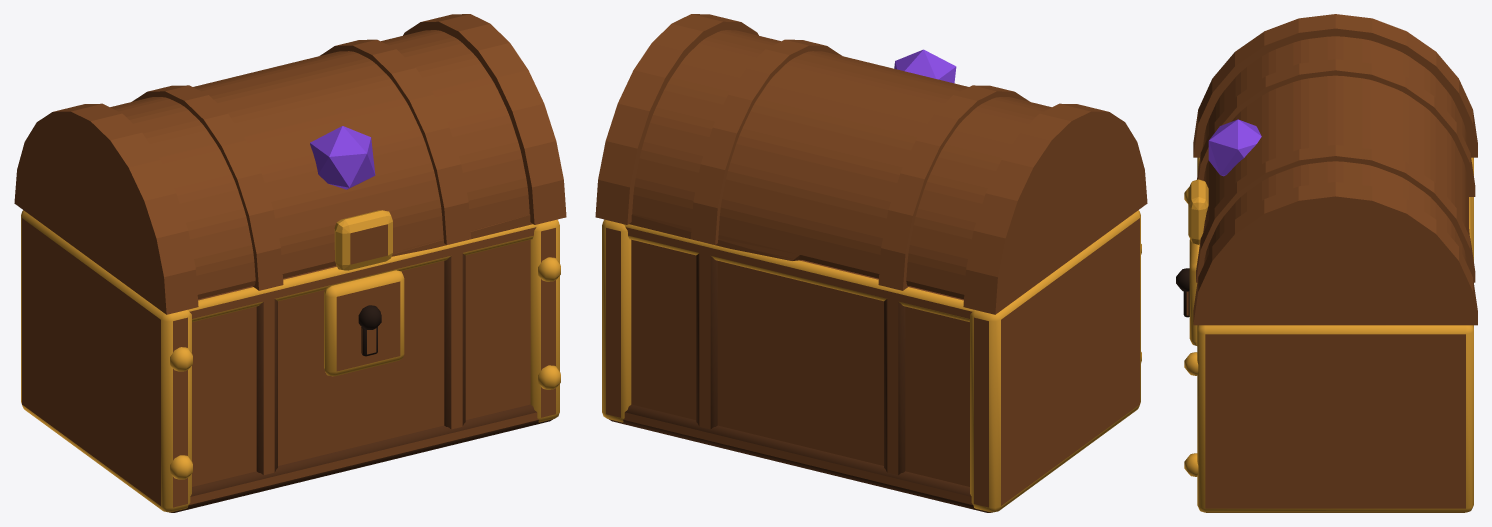
The model's file is Chest.fbx.
3 views of the same model, side by side, from view 1: azimuth 30°, elevation 25°; view 2: azimuth 150°, elevation 25°; view 3: azimuth 270°, elevation 25° (orthographic). The views are drawn at different scales.
Parts seen in each view (by area): view 1: Body, Lid; view 2: Body, Lid; view 3: Lid, Body.
Part boxes in pixels (bbox=[...]): Body: bbox=[21, 210, 560, 512]; Lid: bbox=[14, 14, 566, 314]; Body: bbox=[602, 210, 1141, 512]; Lid: bbox=[595, 14, 1147, 314]; Lid: bbox=[1188, 14, 1477, 325]; Body: bbox=[1176, 157, 1473, 512].
Bounding box in the file's own units: 2.13 × 1.75 × 1.49.
Materials: 1 (1 with a texture image).
